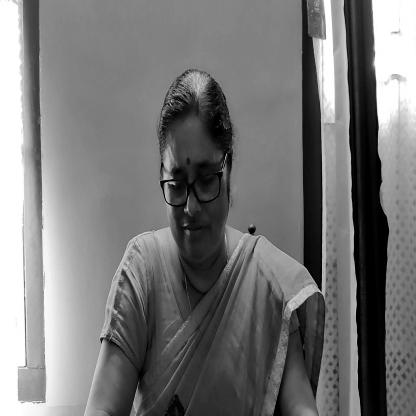Normal: (163, 83, 235, 257)
